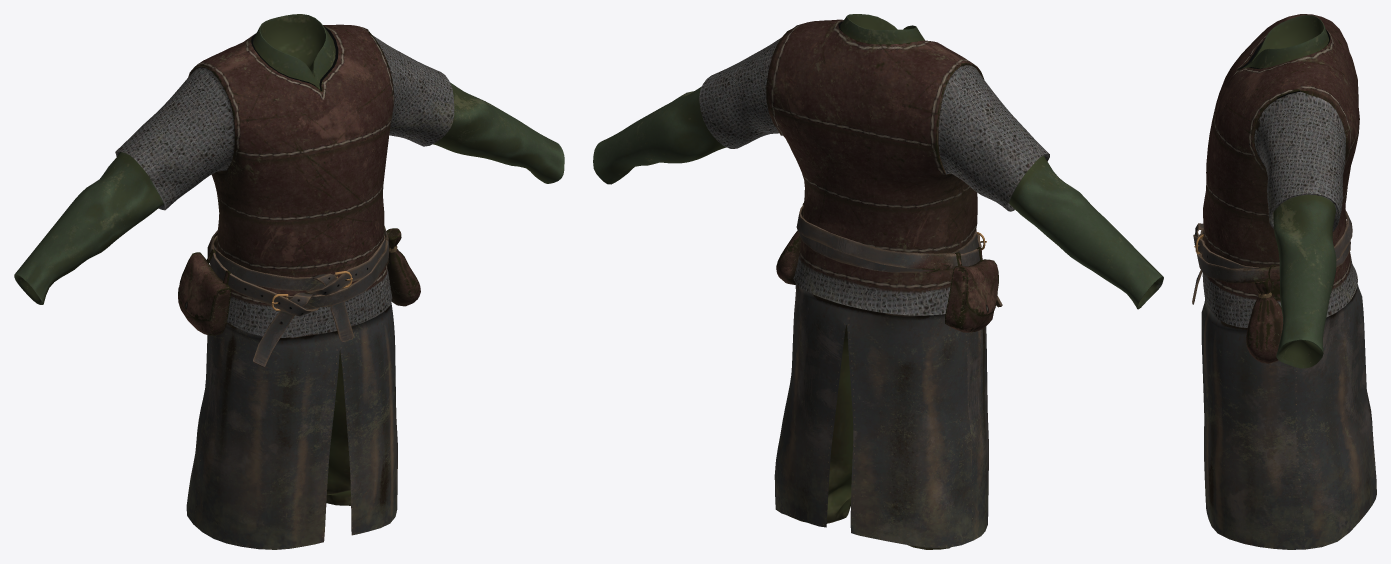
The model's file is cts_rohan_armor4444.fbx.
The picture shows the model from 3 angles, left to right: view 1: azimuth 30°, elevation 25°; view 2: azimuth 150°, elevation 25°; view 3: azimuth 270°, elevation 25°; orthographic projection. The views are drawn at different scales.
Visible parts, largest first — view 1: cts_rohan_armor4444; view 2: cts_rohan_armor4444; view 3: cts_rohan_armor4444.
Boxes of the visible parts, x1,y1,x2,y2 form: cts_rohan_armor4444: (14,14,564,549); cts_rohan_armor4444: (593,14,1163,549); cts_rohan_armor4444: (1192,14,1376,549).
Bounding box in the file's own units: 1.38 × 0.4125 × 1.18.
Materials: 1 (1 with a texture image).
